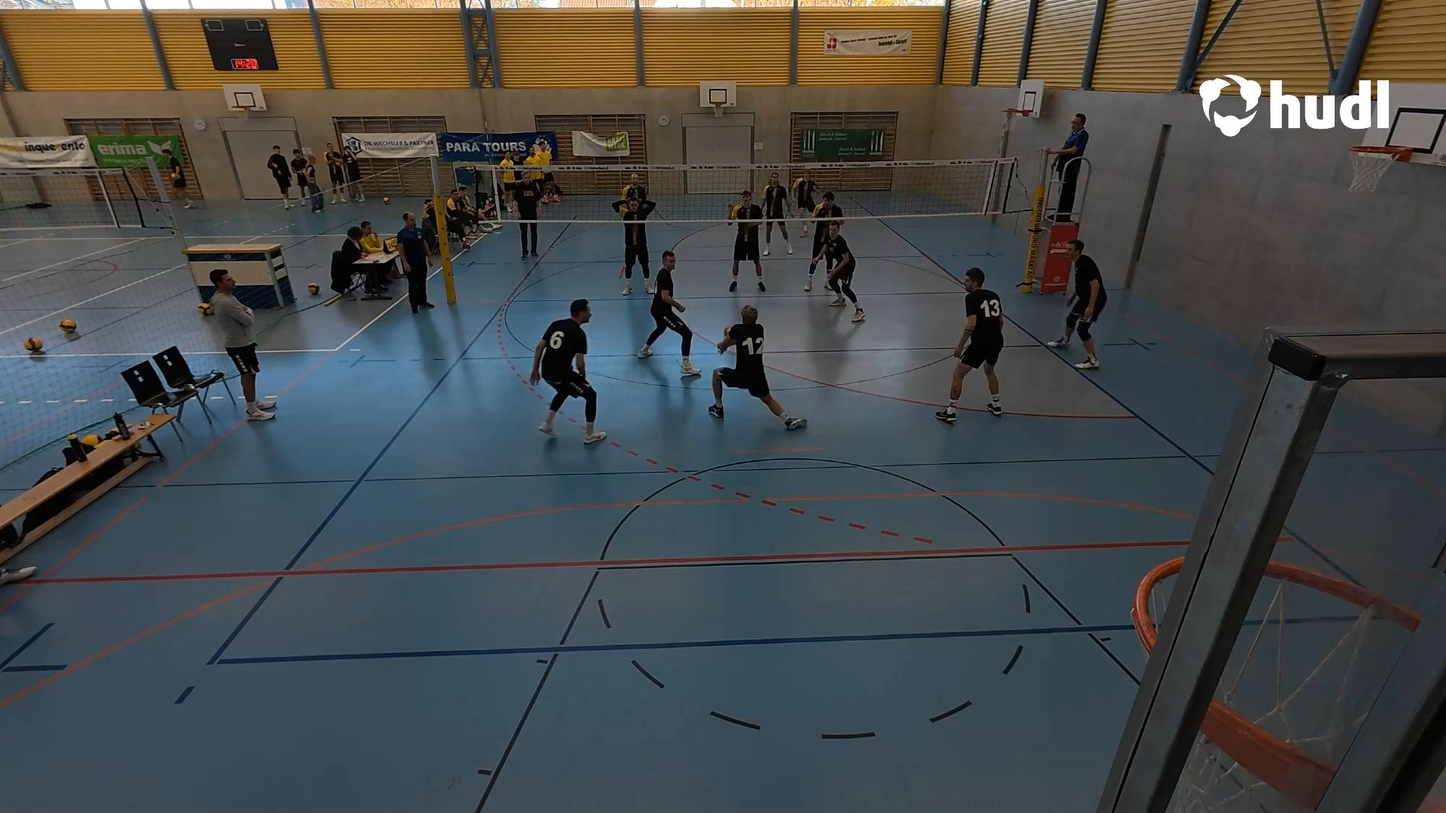Player: (528, 299, 608, 443), (936, 267, 1006, 422), (638, 252, 701, 375), (1051, 239, 1107, 370), (612, 193, 656, 297), (824, 226, 868, 321), (725, 193, 765, 293), (809, 193, 842, 299), (761, 171, 790, 256), (789, 170, 815, 236), (615, 169, 647, 201)
Receive: (703, 307, 806, 432)
ball: (718, 318, 736, 343)
